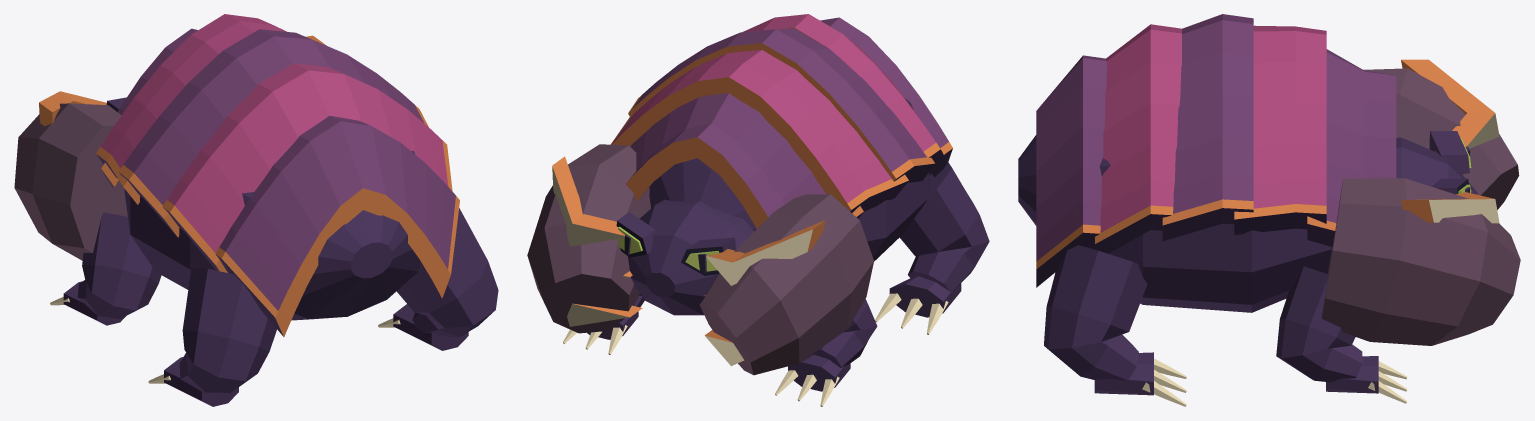
The model's file is CaveArmored_D3-14.fbx.
3 renders of one model, left to right at view 1: azimuth 30°, elevation 25°; view 2: azimuth 150°, elevation 25°; view 3: azimuth 270°, elevation 25°, orthographic. The views are drawn at different scales.
Visible parts, largest first — view 1: Carapace, Shield_L, Leg_BL, Leg_BR, Leg_FL; view 2: Carapace, Shield_L, Shield_R, Head, Leg_BL, Leg_FL, Leg_FR; view 3: Carapace, Shield_R, Leg_BR, Shield_L, Leg_FR, Head.
Boxes of the visible parts, box(x1,y1,x2,y2) form: Carapace: box(96, 14, 459, 336); Shield_L: box(14, 91, 127, 260); Leg_BL: box(148, 267, 276, 406); Leg_BR: box(378, 208, 498, 350); Leg_FL: box(50, 212, 161, 325); Carapace: box(611, 14, 952, 261); Shield_L: box(699, 194, 873, 375); Shield_R: box(527, 144, 650, 333); Head: box(616, 199, 754, 315); Leg_BL: box(875, 160, 989, 334); Leg_FL: box(775, 299, 877, 406); Leg_FR: box(563, 294, 644, 354); Carapace: box(1018, 14, 1396, 312); Shield_R: box(1321, 178, 1520, 345); Leg_BR: box(1044, 245, 1186, 406); Shield_L: box(1363, 59, 1519, 209); Leg_FR: box(1276, 266, 1407, 403); Head: box(1396, 131, 1477, 194).
Bounding box in the file's own units: 1.07 × 0.9664 × 1.4.
Materials: 1 (1 with a texture image).
